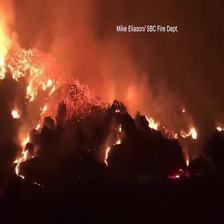fire: (4, 24, 74, 182), (89, 86, 207, 164)
